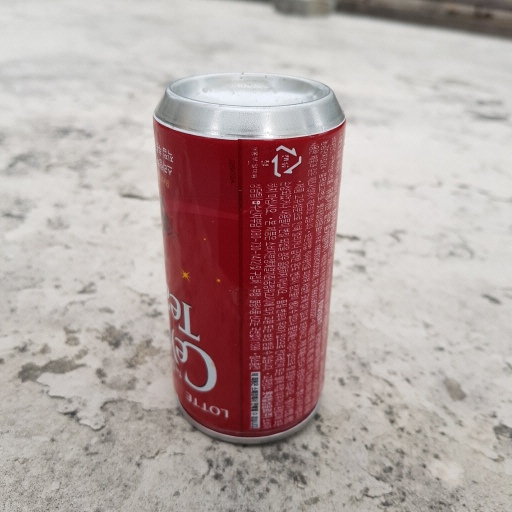Metal_0: (150, 70, 348, 452)
